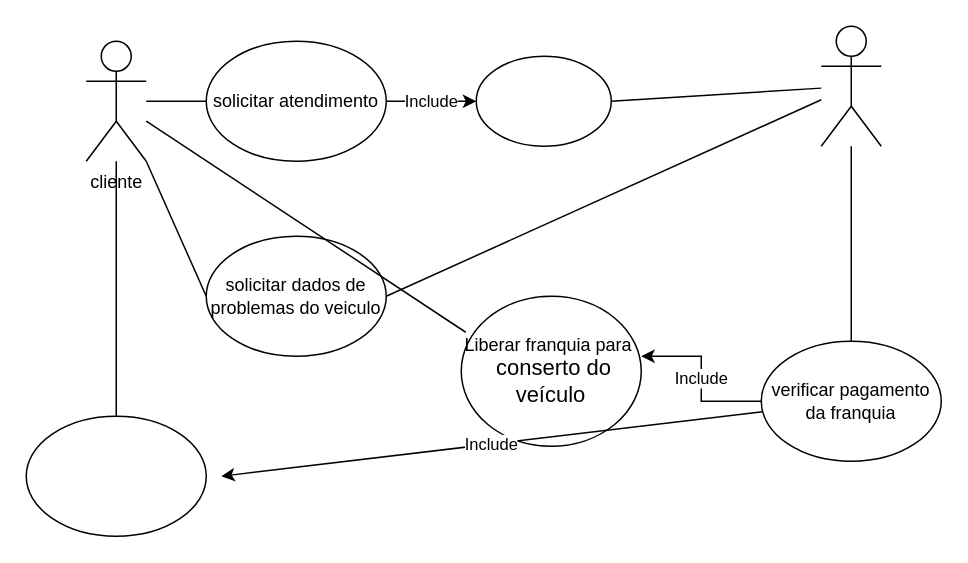
The diagram is 968 pixels wide and 563 high, and some of its shapes have lost their labels. The shapes that lost their labels are listed below. From the top down, each one's centre as x and y in pixels, then its label:
the point at 543,100: solicitar dados pessoais é do carro
the point at 850,85: secretaria
the point at 115,475: emitir pagamento
